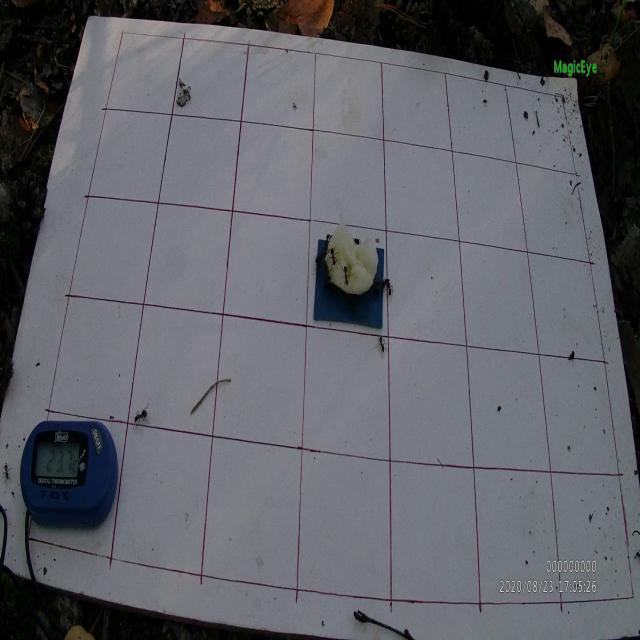Ant: (130, 401, 150, 428), (376, 333, 388, 360), (2, 462, 14, 488), (328, 245, 339, 271), (341, 264, 350, 288), (386, 277, 394, 300)
